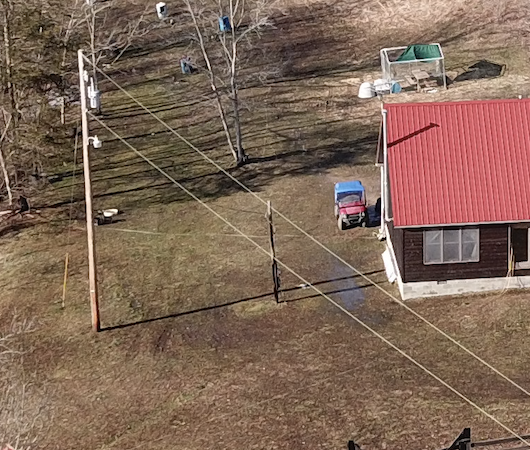pole: (55, 43, 131, 332), (244, 193, 308, 305)
